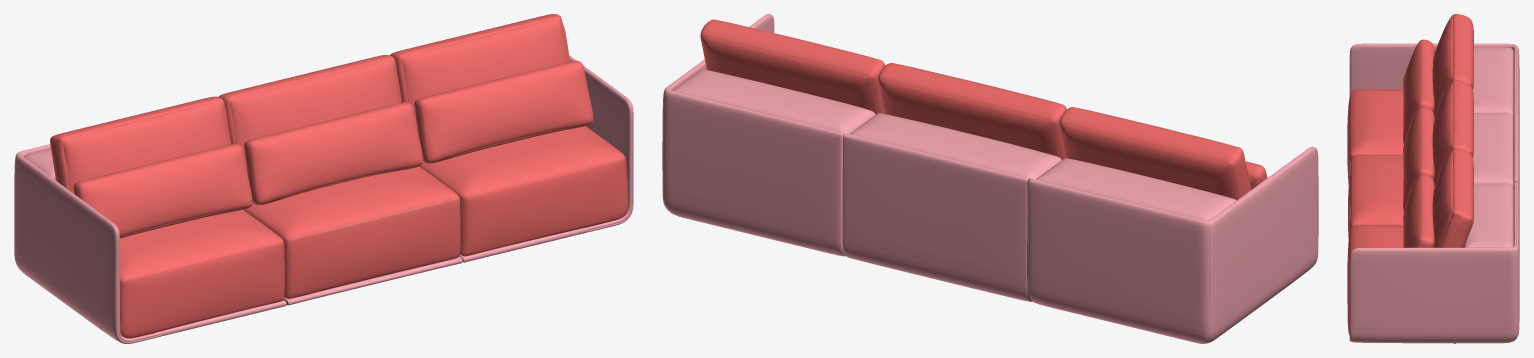
3 views of the same model, side by side, from view 1: azimuth 30°, elevation 25°; view 2: azimuth 150°, elevation 25°; view 3: azimuth 270°, elevation 25° (orthographic). The views are drawn at different scales.
Visible parts, largest first — view 1: Object_13, Object_20; view 2: Object_20, Object_13; view 3: Object_20, Object_13.
Part boxes in pixels (x1=…): Object_13: x1=50, y1=14, x2=628, y2=338; Object_20: x1=14, y1=55, x2=633, y2=343; Object_20: x1=662, y1=14, x2=1318, y2=343; Object_13: x1=700, y1=19, x2=1267, y2=200; Object_20: x1=1349, y1=43, x2=1519, y2=343; Object_13: x1=1347, y1=14, x2=1473, y2=335.
Bounding box in the file's own units: 4.02 × 1.17 × 1.36.
Materials: 6 (4 with a texture image).
